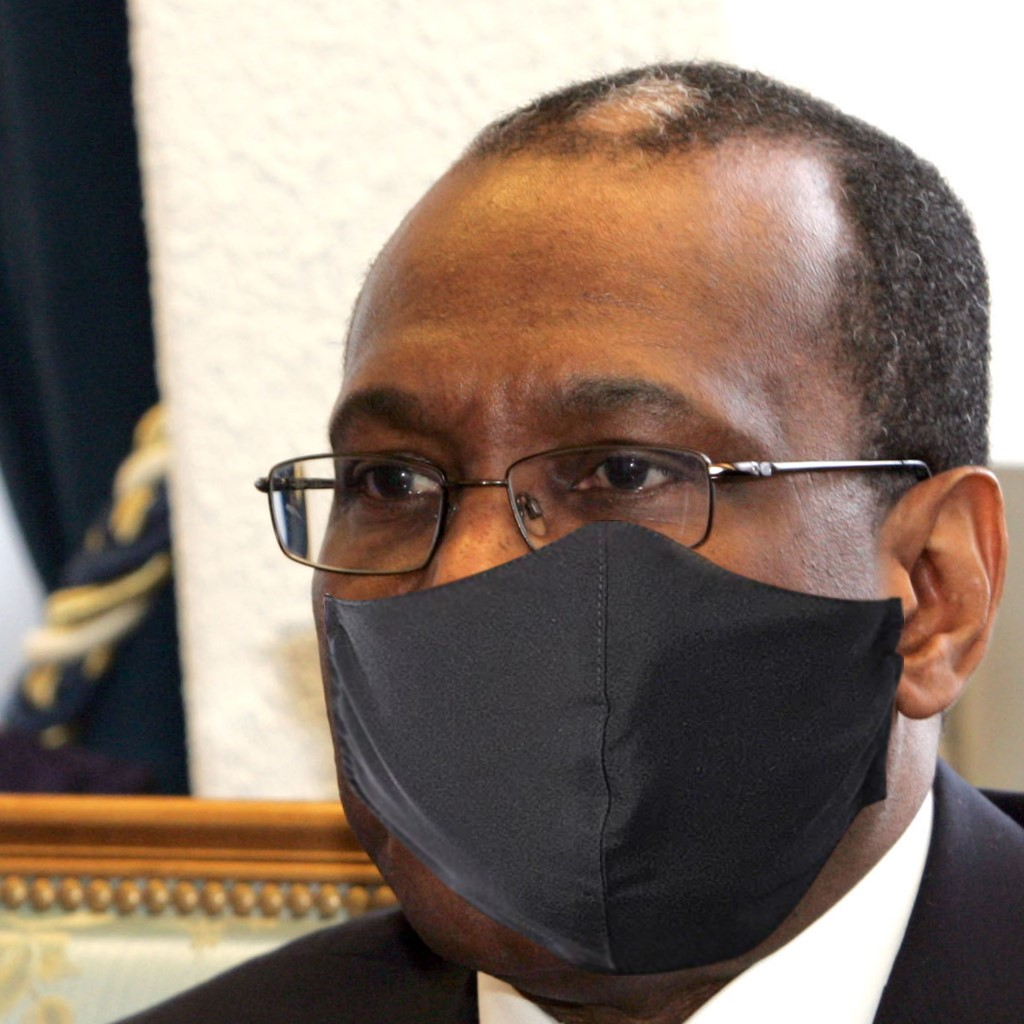con_mascara: (332, 169, 908, 977)
